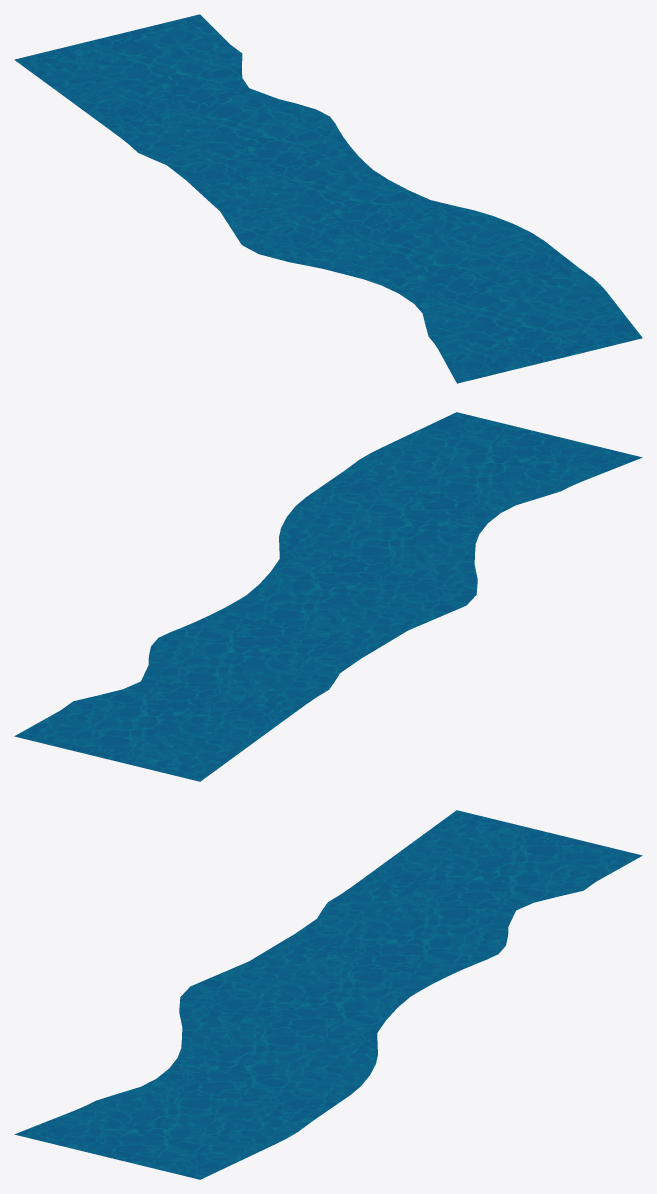
File: River6.glb
3 renders of one model, top to bottom at view 1: azimuth 30°, elevation 25°; view 2: azimuth 150°, elevation 25°; view 3: azimuth 330°, elevation 25°, orthographic.
Parts seen in each view (by area): view 1: River6; view 2: River6; view 3: River6.
Part boxes in pixels (x1=…): River6: x1=14, y1=14, x2=642, y2=383; River6: x1=14, y1=412, x2=642, y2=781; River6: x1=14, y1=810, x2=642, y2=1179.
Bounding box in the file's own units: 1.52 × 0 × 5.04.
1 material, 1 textured.
